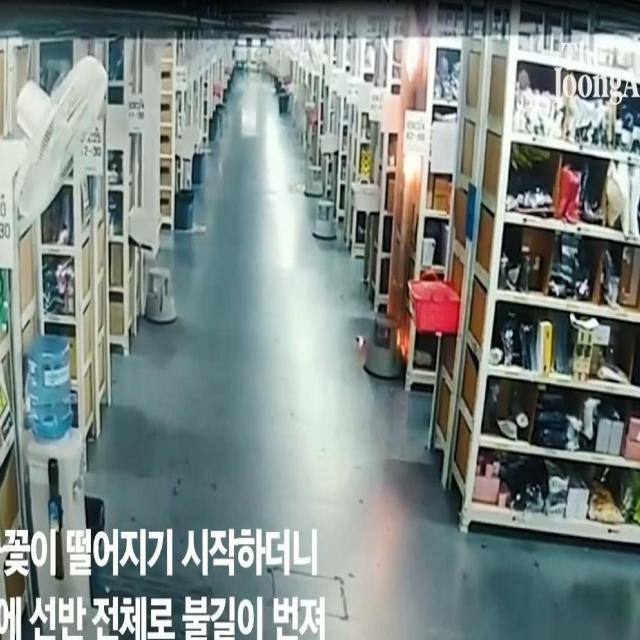smoke: (403, 10, 425, 82), (401, 152, 423, 189), (392, 322, 410, 364)
